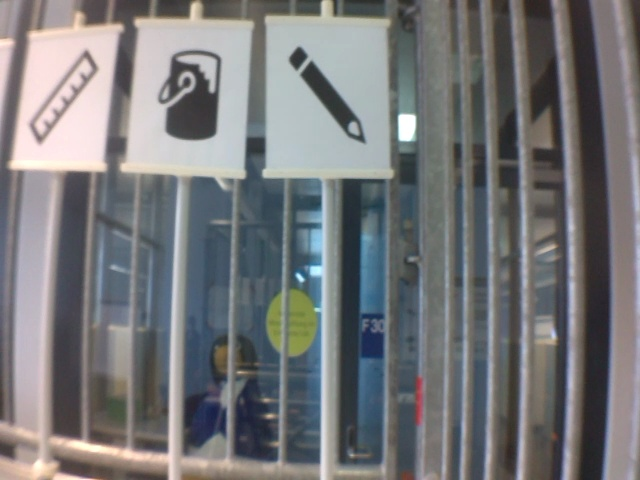bucket: (153, 48, 225, 145)
pencil: (279, 40, 374, 153)
ruler: (26, 48, 101, 148)
